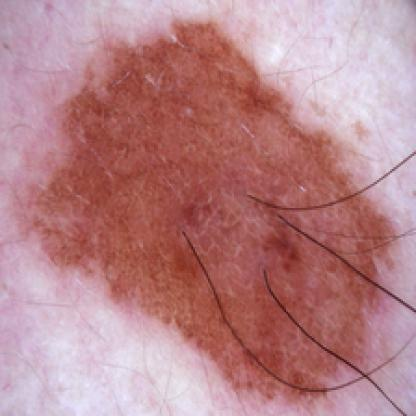benign: (28, 44, 397, 398)
